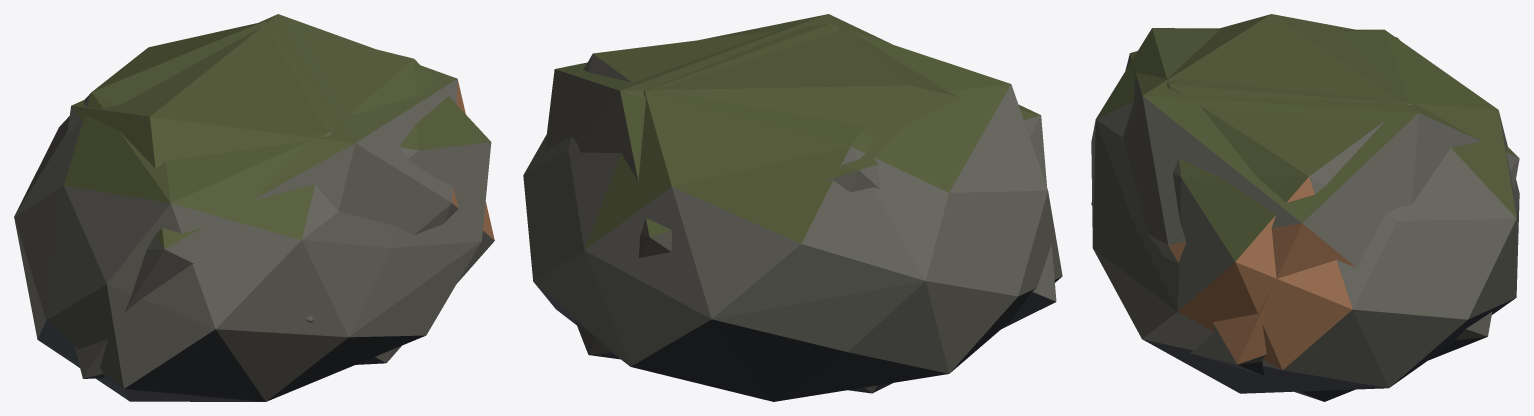
The model's file is rock_river_boulder_a.glb.
3 renders of one model, left to right at view 1: azimuth 30°, elevation 25°; view 2: azimuth 150°, elevation 25°; view 3: azimuth 270°, elevation 25°, orthographic. The views are drawn at different scales.
Visible parts, largest first — view 1: rock_river_boulder_a_LOD0_stone, rock_river_boulder_a_LOD1_stone; view 2: rock_river_boulder_a_LOD0_stone, rock_river_boulder_a_LOD1_stone; view 3: rock_river_boulder_a_LOD0_stone, rock_river_boulder_a_LOD1_stone.
Part boxes in pixels (left/top/right/bottom): rock_river_boulder_a_LOD0_stone: left=14, top=21, right=491, bottom=401; rock_river_boulder_a_LOD1_stone: left=67, top=14, right=494, bottom=378; rock_river_boulder_a_LOD0_stone: left=523, top=24, right=1062, bottom=401; rock_river_boulder_a_LOD1_stone: left=545, top=14, right=1056, bottom=393; rock_river_boulder_a_LOD0_stone: left=1091, top=28, right=1519, bottom=393; rock_river_boulder_a_LOD1_stone: left=1091, top=14, right=1519, bottom=401.
Bounding box in the file's own units: 0.96 × 0.5952 × 0.8256.
